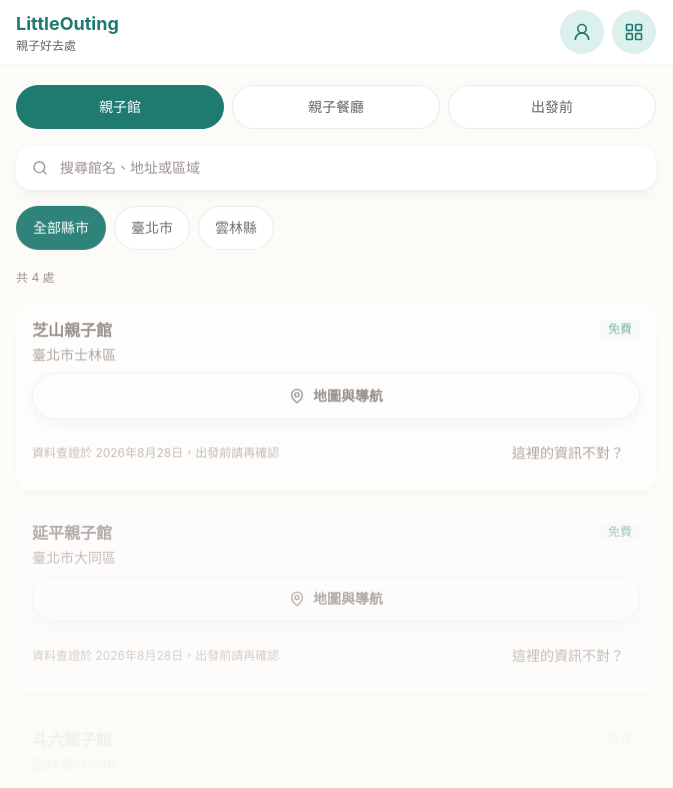
Test: 兩種資料的可信度差別 › 餐廳分頁自己說這是精選不是完整名單
Click the button "親子餐廳" at x=336, y=107, box [232,85,440,129]
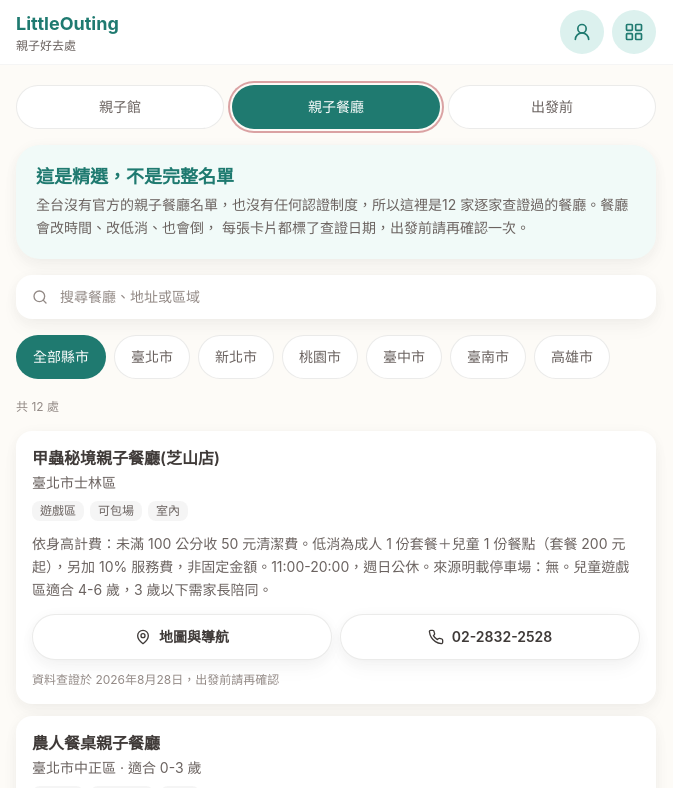
Now the heading "這是精選，不是完整名單" is shown, box [36,166,234,187]
